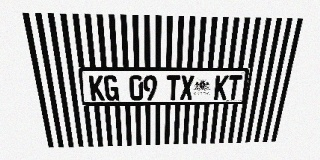0: (129, 75, 143, 100)
9: (143, 75, 157, 100)
G: (103, 75, 119, 101)
K: (89, 75, 105, 101), (214, 75, 229, 100)
T: (226, 75, 242, 99), (166, 75, 180, 100)
X: (180, 75, 194, 100)
